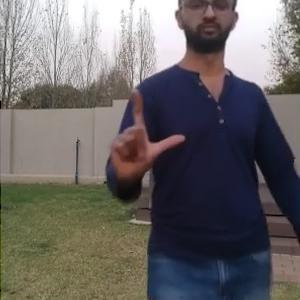land_hand: (100, 80, 189, 189)
